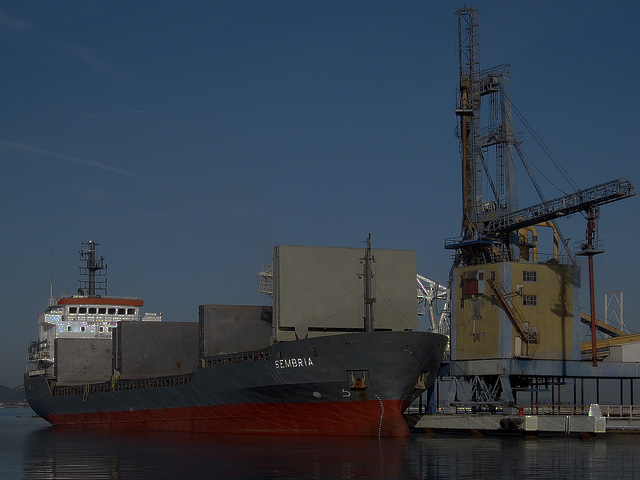bulk carrier: (19, 238, 447, 443)
